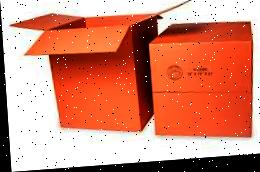cube: (146, 21, 257, 147)
